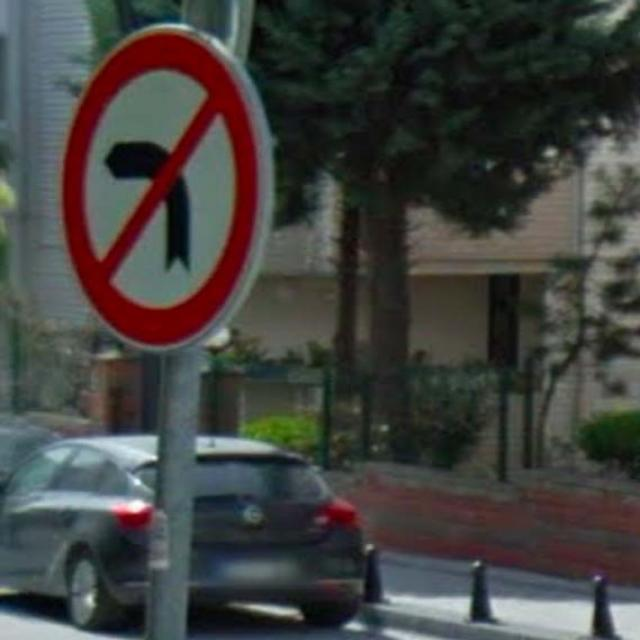soladonulmez: (59, 22, 262, 350)
